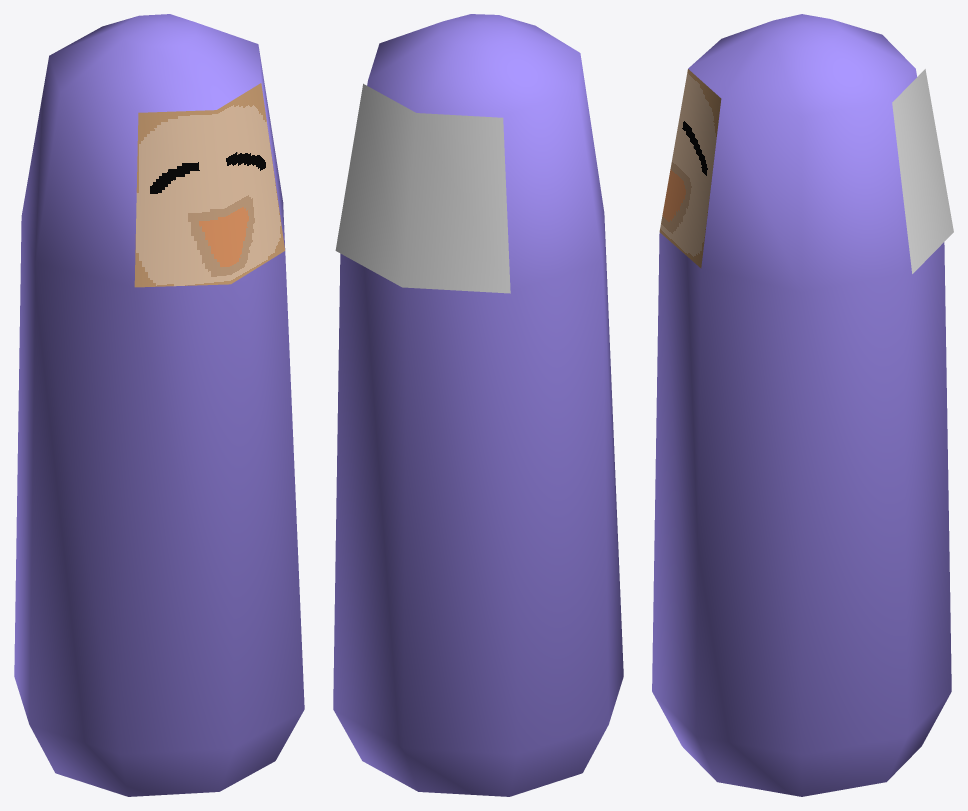
File: OTA_N_09.glb
The picture shows the model from 3 angles, left to right: view 1: azimuth 30°, elevation 25°; view 2: azimuth 150°, elevation 25°; view 3: azimuth 270°, elevation 25°; orthographic projection.
Parts seen in each view (by area): view 1: FRAME_ROOT; view 2: FRAME_ROOT; view 3: FRAME_ROOT.
Boxes of the visible parts, x1,y1,x2,y2 form: FRAME_ROOT: (14,14,304,796); FRAME_ROOT: (333,14,623,796); FRAME_ROOT: (652,14,953,796).
Size of the model in its own units: 1.28 by 3.4 by 1.29.
3 materials, 3 textured.
